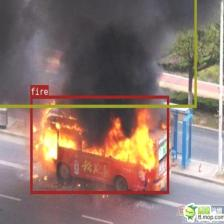fire: (30, 95, 168, 193)
smoke: (0, 0, 196, 107)
